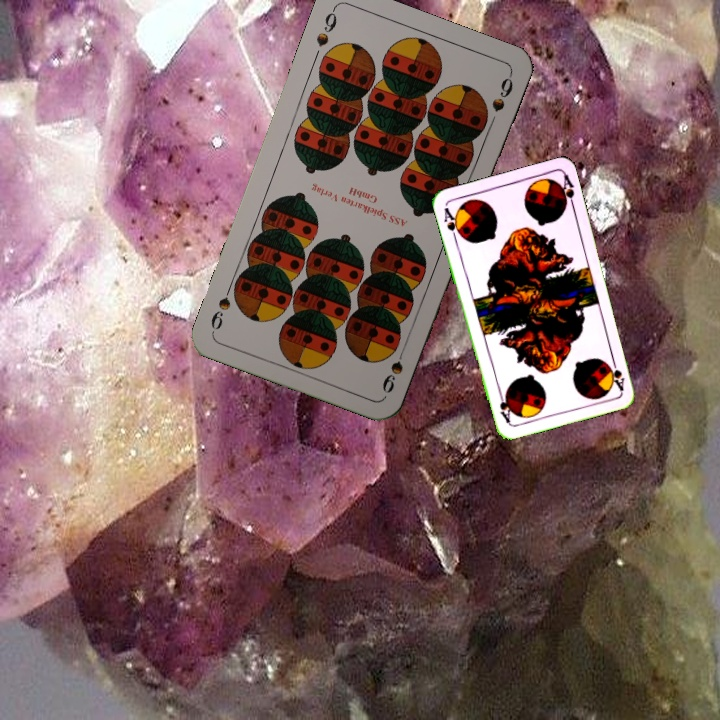S9: (378, 340, 409, 396), (312, 4, 340, 50)
SA: (439, 203, 465, 243), (604, 353, 627, 393)
